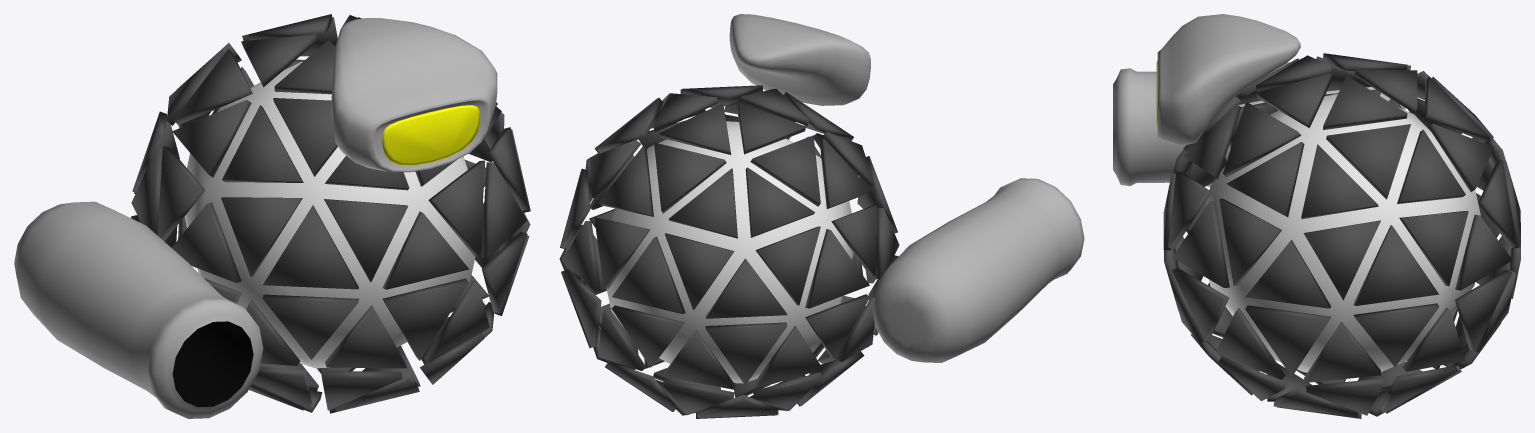
Rendered from Player.fbx.
The picture shows the model from 3 angles, left to right: view 1: azimuth 30°, elevation 25°; view 2: azimuth 150°, elevation 25°; view 3: azimuth 270°, elevation 25°; orthographic projection. The views are drawn at different scales.
Visible parts, largest first — view 1: Exterior, Gun, Interior, Head, InteriorGun, Sceen; view 2: Exterior, Gun, Interior, Head; view 3: Exterior, Interior, Head, Gun.
Boxes of the visible parts, x1=… form: Exterior: x1=131, y1=14, x2=530, y2=413; Gun: x1=14, y1=201, x2=263, y2=418; Interior: x1=184, y1=61, x2=475, y2=368; Head: x1=331, y1=18, x2=497, y2=172; InteriorGun: x1=172, y1=321, x2=253, y2=407; Sceen: x1=382, y1=105, x2=479, y2=165; Exterior: x1=559, y1=85, x2=899, y2=418; Gun: x1=872, y1=178, x2=1084, y2=362; Interior: x1=606, y1=121, x2=853, y2=383; Head: x1=729, y1=14, x2=870, y2=105; Exterior: x1=1163, y1=53, x2=1520, y2=418; Interior: x1=1205, y1=94, x2=1480, y2=372; Head: x1=1157, y1=14, x2=1300, y2=146; Gun: x1=1113, y1=62, x2=1405, y2=186.
Size of the model in its own units: 355 by 285 by 285.
